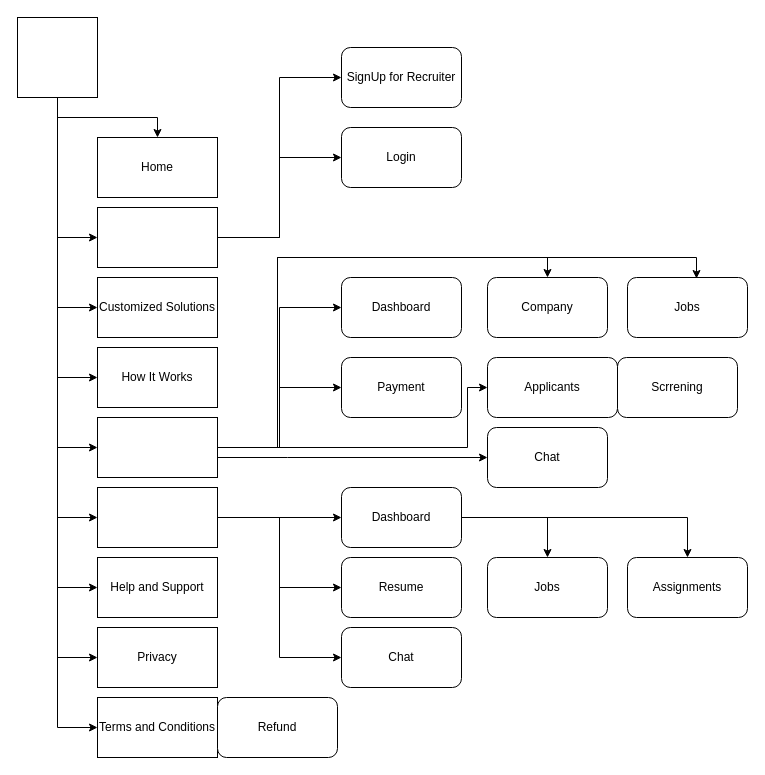
Some shapes in this 765 by 775 pixel diagram are drawn without their labels. Each missing label, with the box of its shape:
Authentication: (96, 206, 218, 268)
Candidate: (96, 486, 218, 548)
Pages: (16, 16, 98, 98)
Recruiter: (96, 416, 218, 478)
